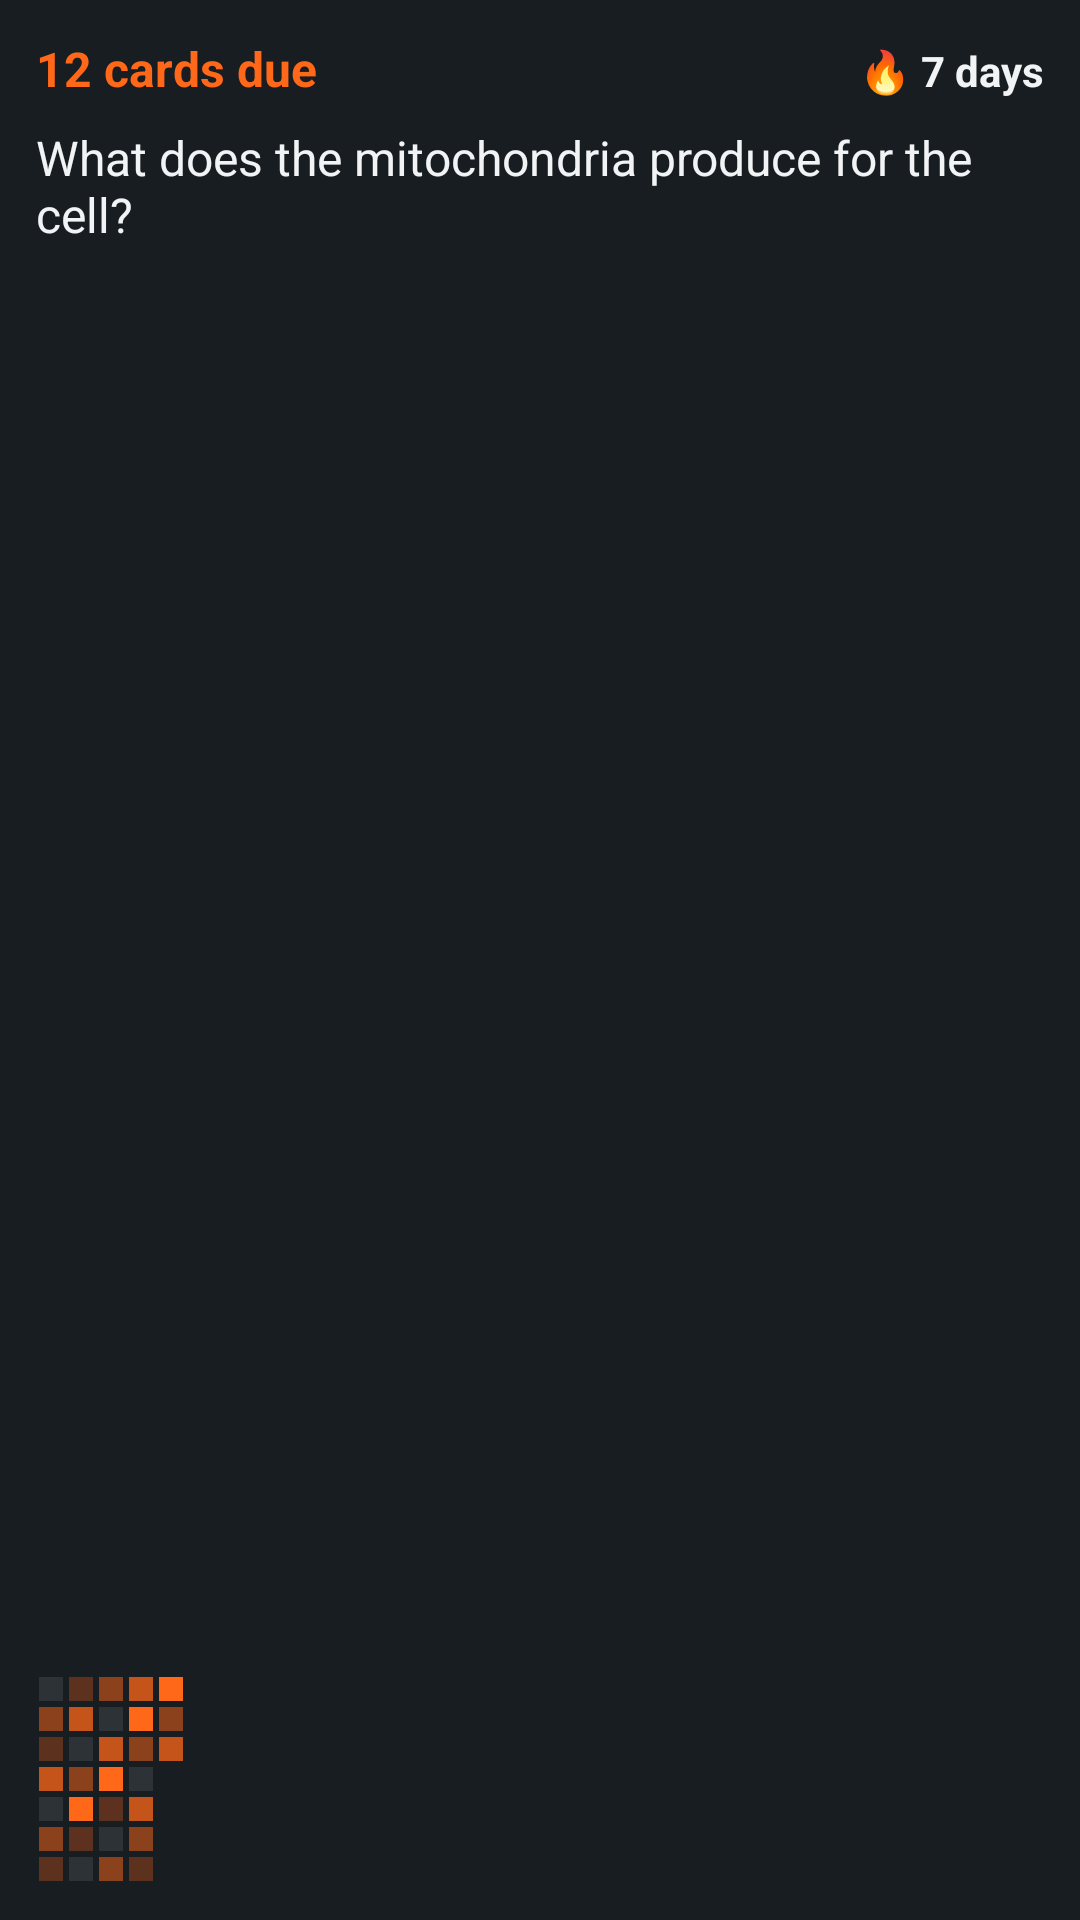

Screen size 1080px×1920px. Icon name, then its center in pixels as [x,y]:
dashboard widget grid: [111,1779]
